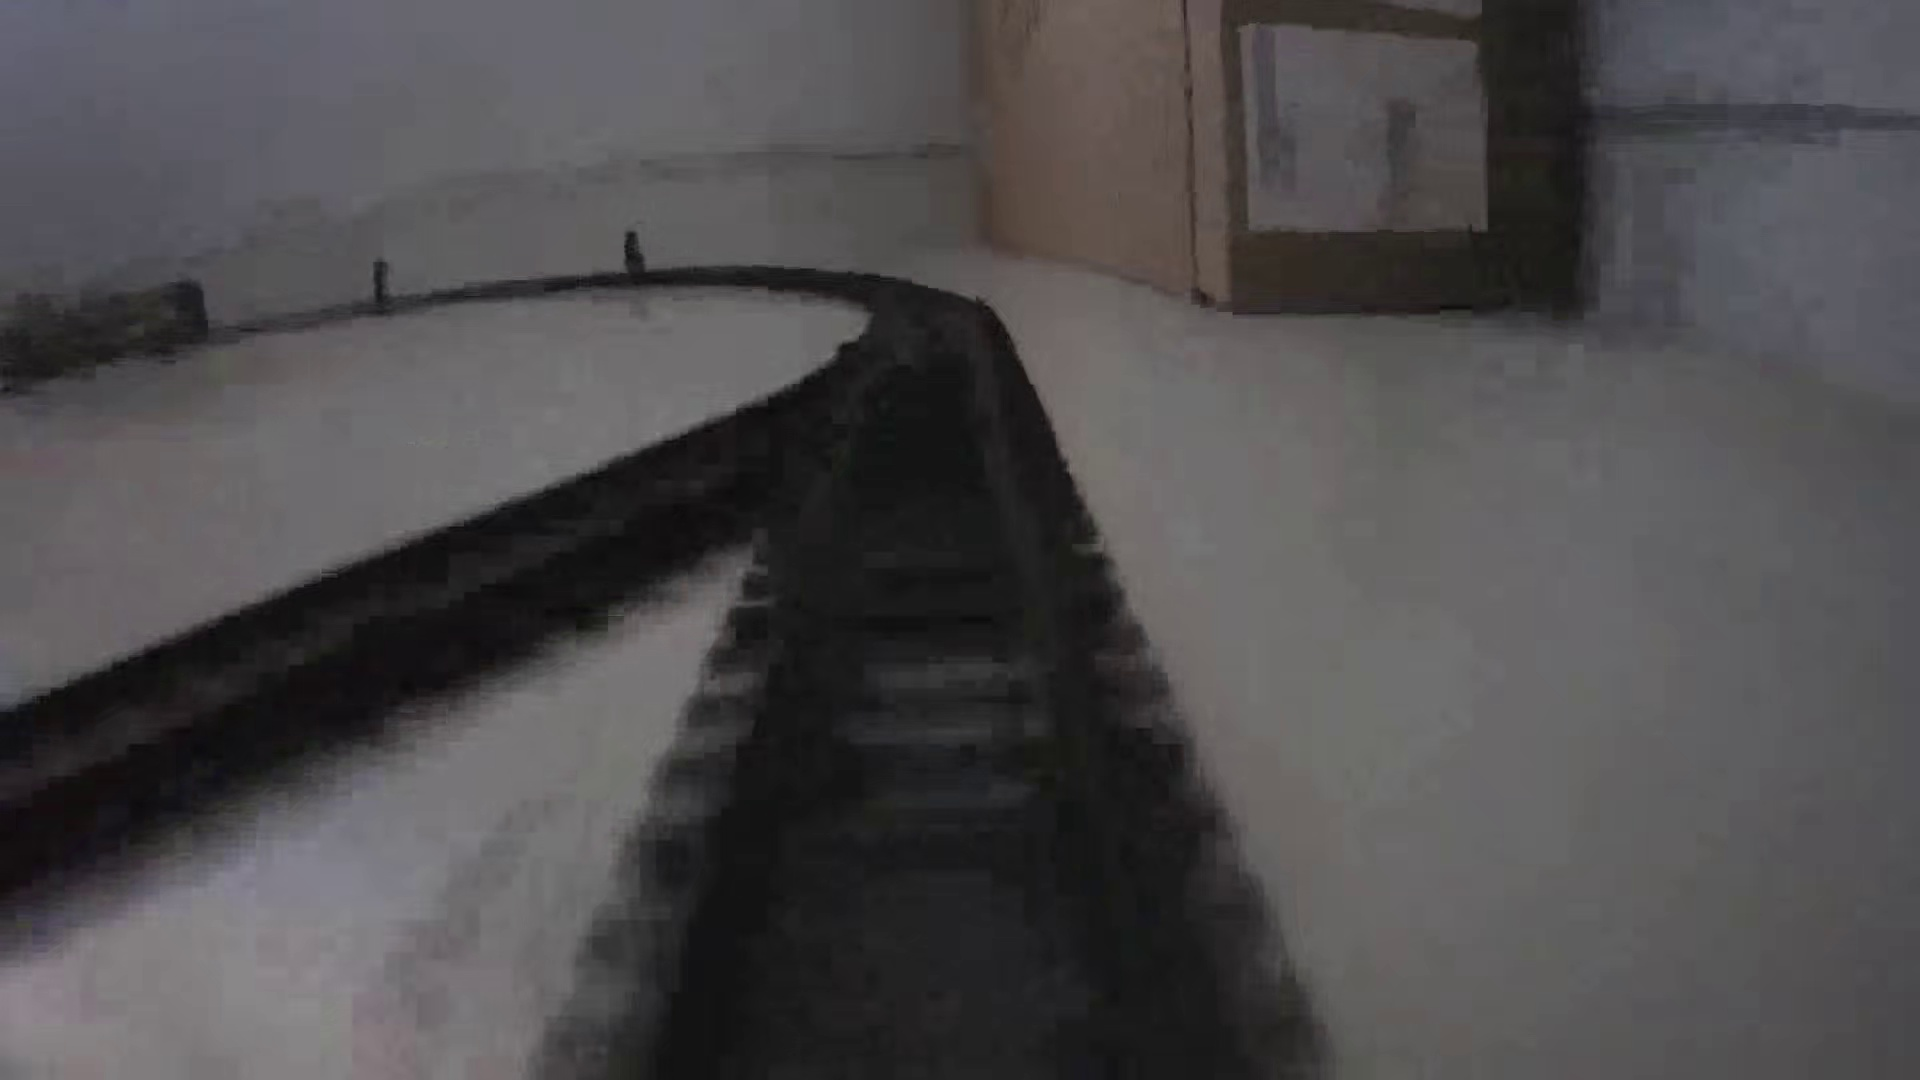people: (366, 255, 395, 306), (620, 227, 649, 277)
